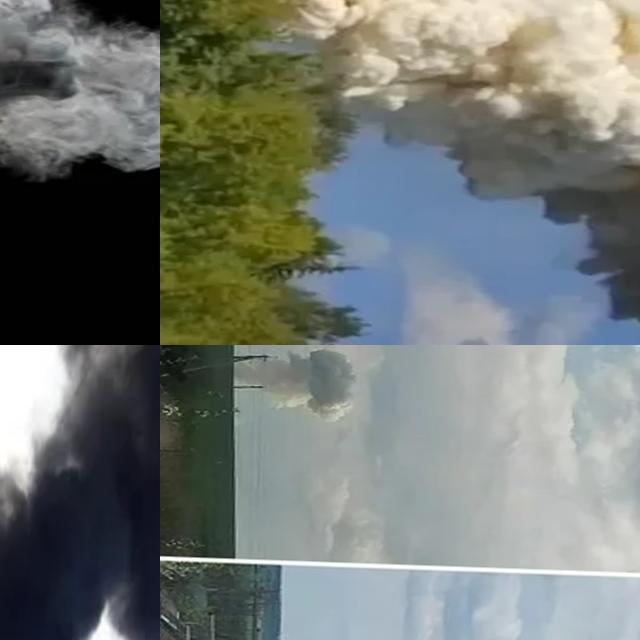smoke: (302, 0, 640, 345), (0, 345, 160, 640), (0, 0, 160, 189), (232, 346, 354, 420)
